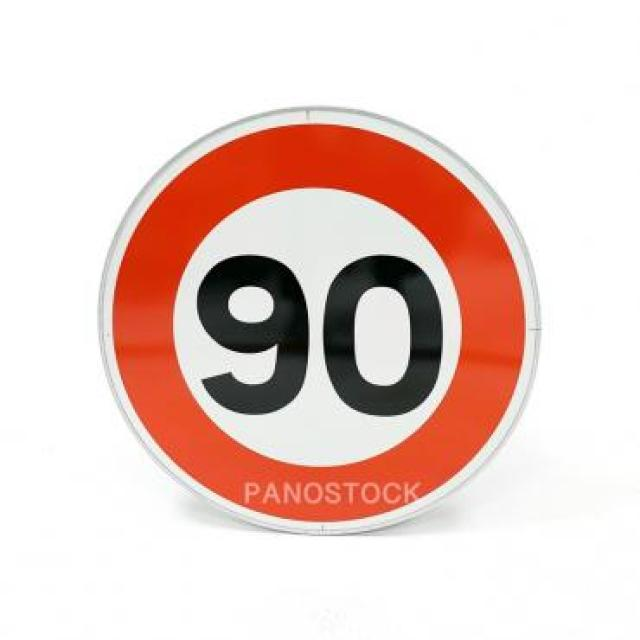speed: (95, 105, 538, 532)
